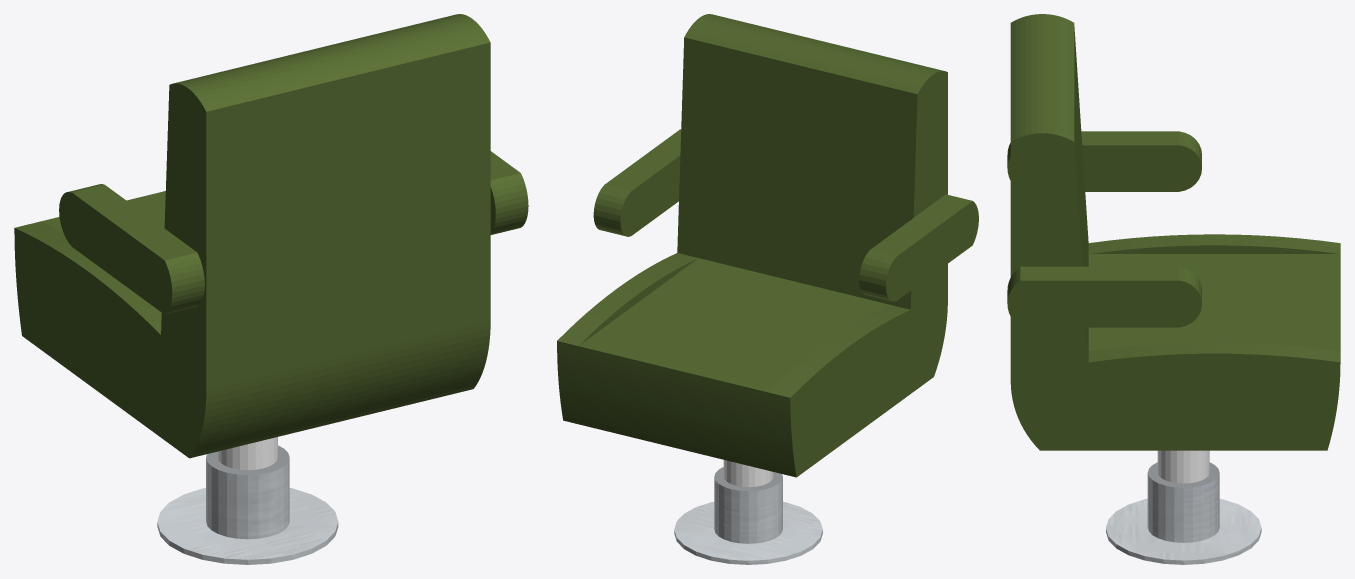
Rendered from station_chair.obj.
3 views of the same model, side by side, from view 1: azimuth 30°, elevation 25°; view 2: azimuth 150°, elevation 25°; view 3: azimuth 270°, elevation 25° (orthographic). The views are drawn at different scales.
Visible parts, largest first — view 1: station_chair-COM-chair-5565-0059_DarkOliveGreen, station_chair-COM-chair-5565-Metal_Aluminum_Anodized, station_chair-COM-chair-5565-Default_Material, station_chair-COM-chair-5565-Metal_Rough; view 2: station_chair-COM-chair-5565-0059_DarkOliveGreen, station_chair-COM-chair-5565-Metal_Aluminum_Anodized, station_chair-COM-chair-5565-Default_Material; view 3: station_chair-COM-chair-5565-0059_DarkOliveGreen, station_chair-COM-chair-5565-Metal_Aluminum_Anodized, station_chair-COM-chair-5565-Default_Material, station_chair-COM-chair-5565-Metal_Rough.
Boxes of the visible parts, x1,y1,x2,y2 form: station_chair-COM-chair-5565-0059_DarkOliveGreen: [14, 14, 528, 458]; station_chair-COM-chair-5565-Metal_Aluminum_Anodized: [157, 458, 338, 564]; station_chair-COM-chair-5565-Default_Material: [217, 437, 277, 470]; station_chair-COM-chair-5565-Metal_Rough: [206, 445, 289, 474]; station_chair-COM-chair-5565-0059_DarkOliveGreen: [557, 14, 978, 477]; station_chair-COM-chair-5565-Metal_Aluminum_Anodized: [674, 477, 822, 564]; station_chair-COM-chair-5565-Default_Material: [723, 460, 773, 487]; station_chair-COM-chair-5565-0059_DarkOliveGreen: [1007, 14, 1340, 450]; station_chair-COM-chair-5565-Metal_Aluminum_Anodized: [1106, 473, 1261, 564]; station_chair-COM-chair-5565-Default_Material: [1157, 450, 1209, 483]; station_chair-COM-chair-5565-Metal_Rough: [1148, 462, 1219, 487].
Size of the model in its own units: 0.6921 by 0.9904 by 0.652.
